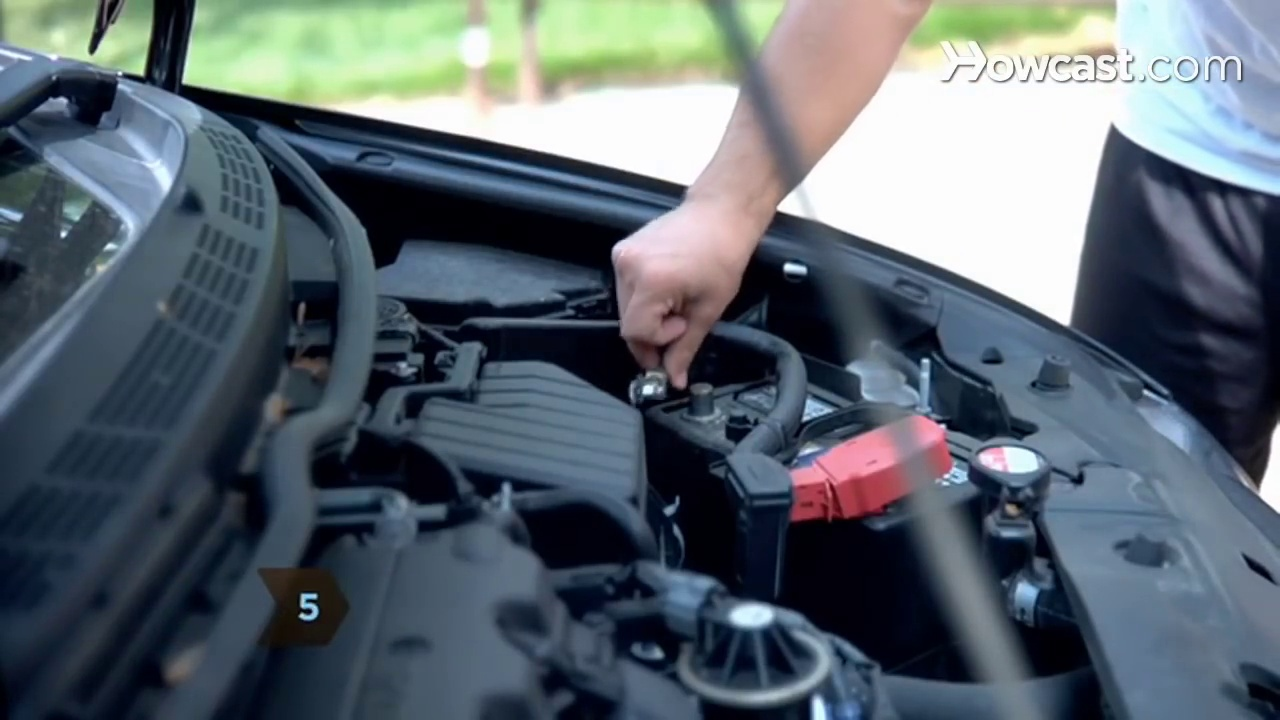battery: (631, 350, 1033, 537)
neg_disconnected: (631, 356, 729, 425)
neg_touched: (618, 261, 739, 425)
pos_connected: (756, 419, 959, 525)
